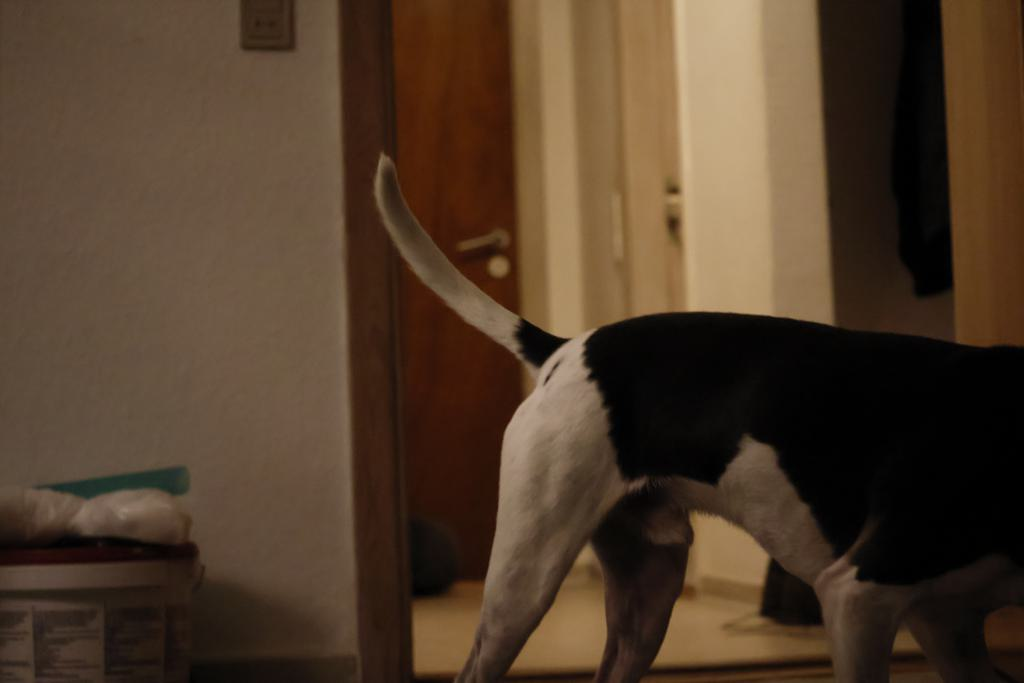Dog: (371, 146, 1024, 683)
